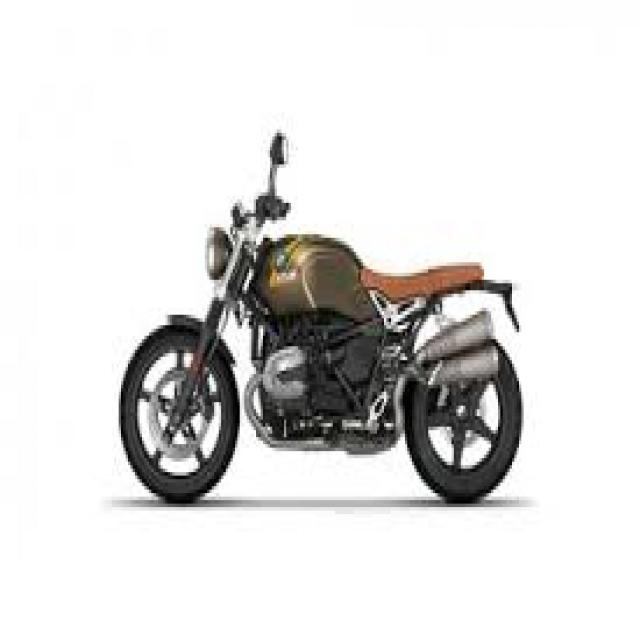Bike: (119, 129, 524, 507)
